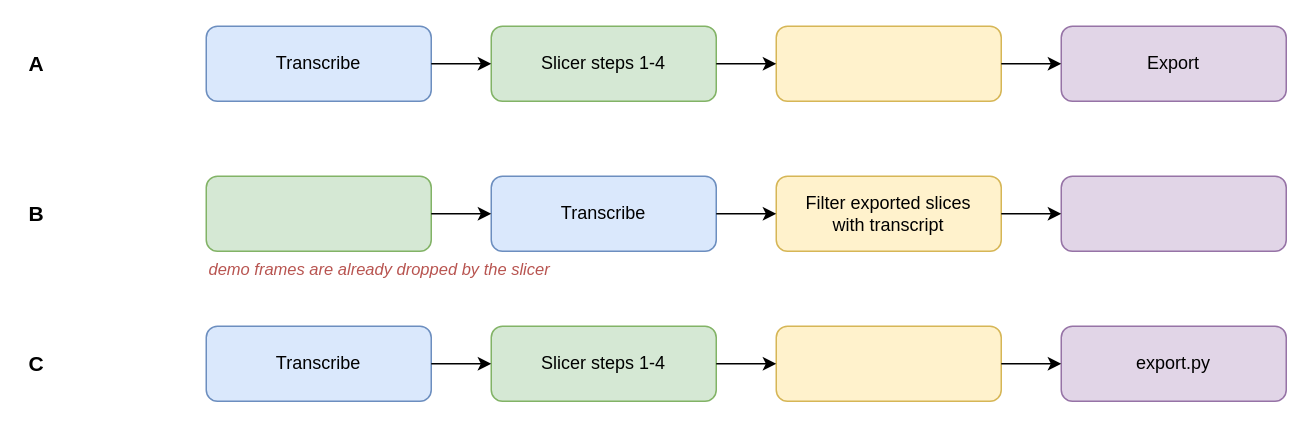
The diagram is 1313 pixels wide and 428 high, and some of its shapes have lost their labels. The shapes that lost their labels are listed below. From the top down, each one's centre as x and y in pixels, then its label:
the point at 888,63: Slicer step 5 + transcript per candidate
the point at 318,213: Slicer steps 1-6 (unchanged)
the point at 1173,213: Selected slices
the point at 888,363: Own review (new rules + transcript)
